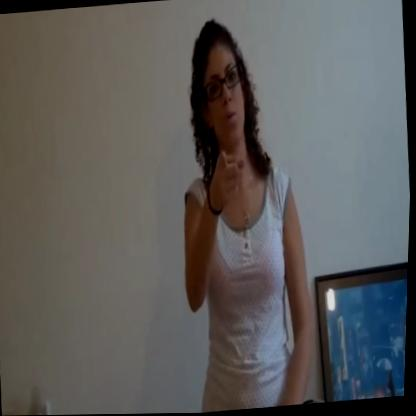HowAreYou: (202, 140, 255, 229)
